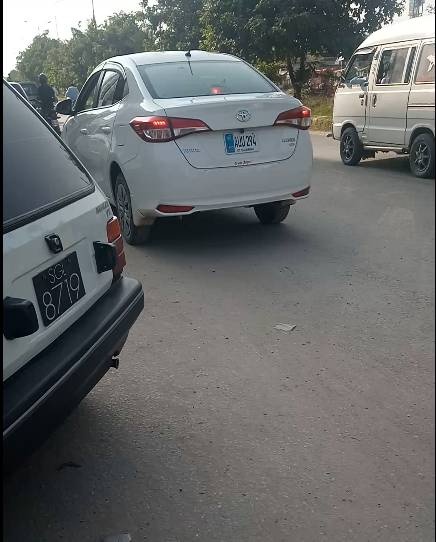number_plate: (220, 126, 264, 157)
